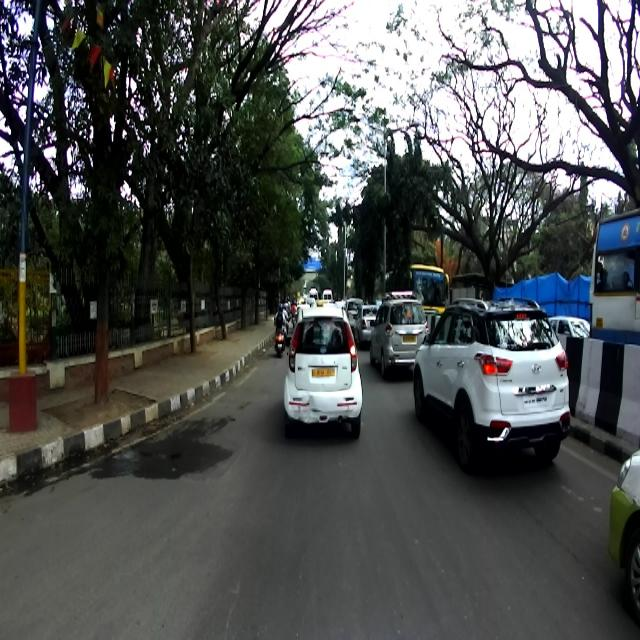Car_Hyundai: (412, 297, 570, 469)
Car_Maruti-Suzuki: (282, 307, 363, 441), (369, 292, 429, 378)
